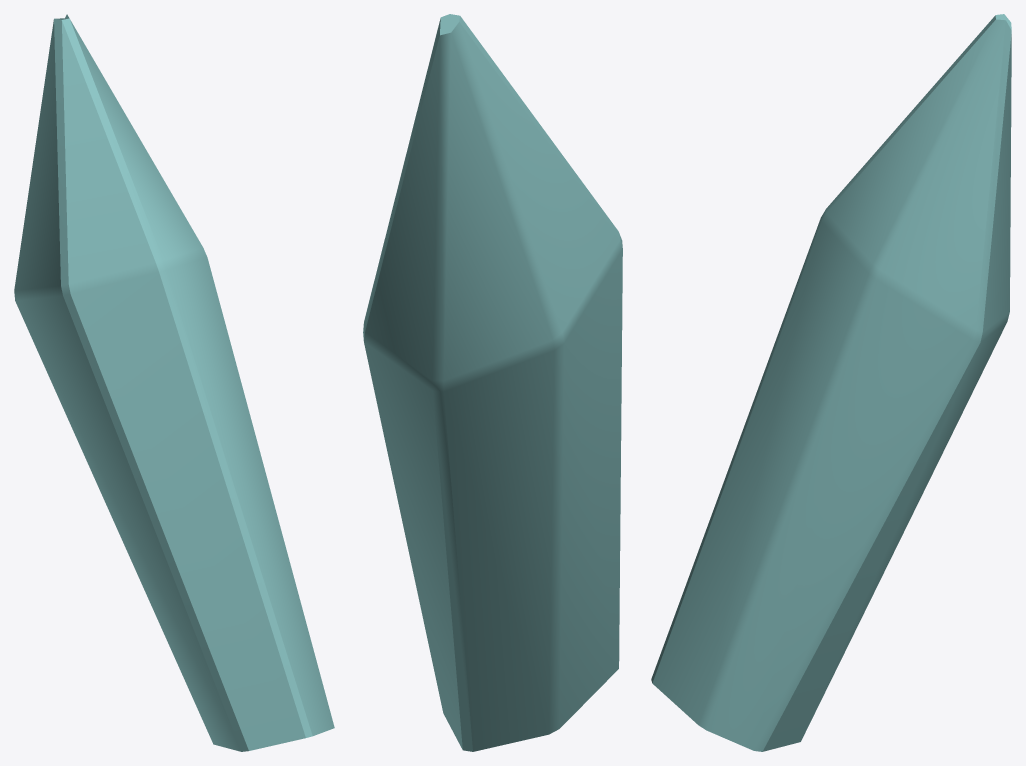
Rendered from crystal.glb.
3 views of the same model, side by side, from view 1: azimuth 30°, elevation 25°; view 2: azimuth 150°, elevation 25°; view 3: azimuth 270°, elevation 25° (orthographic). The views are drawn at different scales.
Parts seen in each view (by area): view 1: crystal_5_bevel.002; view 2: crystal_5_bevel.002; view 3: crystal_5_bevel.002.
Boxes of the visible parts, box(x1,y1,x2,y2) form: crystal_5_bevel.002: box(14, 14, 334, 751); crystal_5_bevel.002: box(363, 14, 622, 751); crystal_5_bevel.002: box(651, 14, 1011, 751).
Size of the model in its own units: 0.1332 by 0.4343 by 0.2086.
